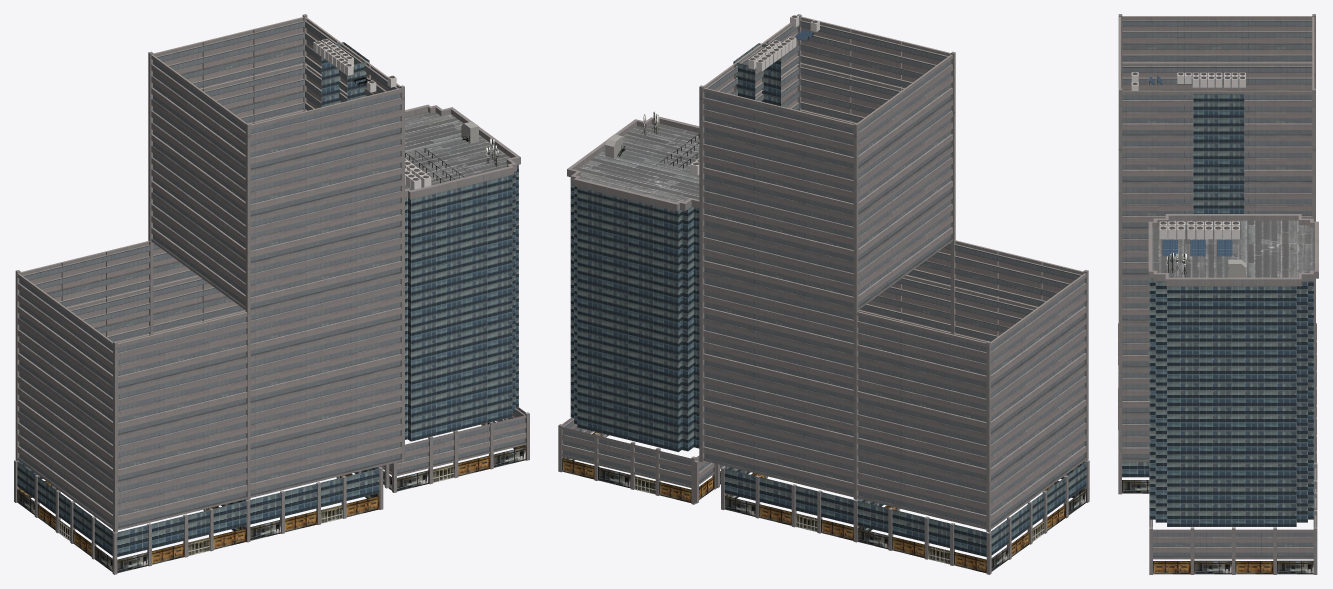
The model's file is beautiful_00.gltf.
The picture shows the model from 3 angles, left to right: view 1: azimuth 30°, elevation 25°; view 2: azimuth 150°, elevation 25°; view 3: azimuth 270°, elevation 25°; orthographic projection.
Parts seen in each view (by area): view 1: beautiful_00; view 2: beautiful_00; view 3: beautiful_00.
Part boxes in pixels (x1,y1,x2,y2): beautiful_00: (14, 14, 529, 574); beautiful_00: (558, 14, 1089, 574); beautiful_00: (1118, 14, 1318, 574).
Bounding box in the file's own units: 63.13 × 59.18 × 25.59.
2 materials, 2 textured.
